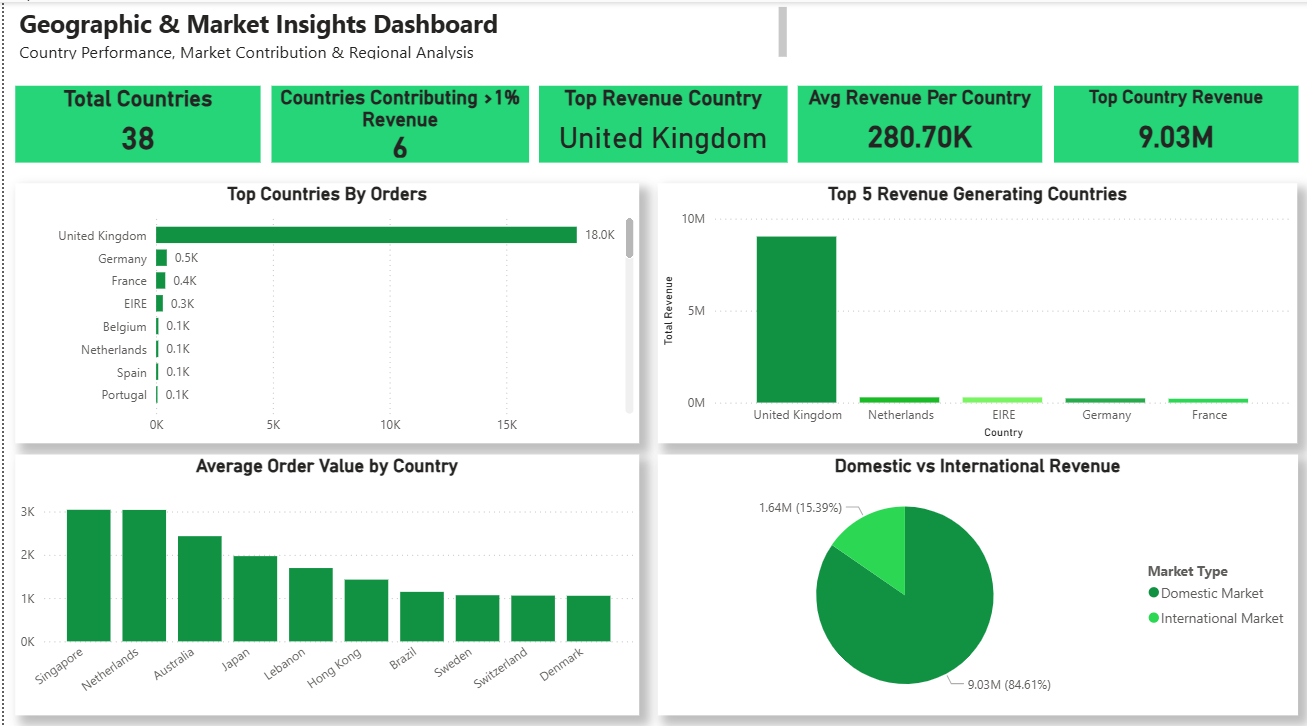

The page's visual inventory and layout, read from the dashboard file:
{"tool":"powerbi","page":{"name":"Page 4","canvas":[1280,720],"ordinal":3},"visuals":[{"type":"textbox","box":[10,0,760.9,61.2],"z":0},{"type":"card","title":"Total Countries","fields":{"Values":["online_retail_clean.Total Countries"]},"box":[11.4,82.5,240.4,75.4],"z":1000},{"type":"card","title":"Top Revenue Country","fields":{"Values":["online_retail_clean.Top Revenue Country"]},"box":[523.4,82.5,243.2,75.4],"z":2000},{"type":"card","title":"Avg Revenue Per Country","fields":{"Values":["online_retail_clean.Avg Revenue per Country"]},"box":[776.5,82.5,238.9,75.4],"z":3000},{"type":"card","title":"Countries Contributing >1% Revenue","fields":{"Values":["online_retail_clean.Countries Contributing >1% Revenue"]},"box":[261.7,82.5,251.7,75.4],"z":4000},{"type":"card","title":"Top Country Revenue","fields":{"Values":["online_retail_clean.Top Country Revenue"]},"box":[1026.8,82.5,238.9,75.4],"z":5000},{"type":"clusteredBarChart","title":"Top Countries By Orders","fields":{"Category":["online_retail_clean.Country"],"Y":["online_retail_clean.Total Orders"]},"box":[11.4,177.8,610.1,254.6],"z":6000},{"type":"clusteredColumnChart","title":"Average Order Value by Country","fields":{"Category":["online_retail_clean.Country"],"Y":["online_retail_clean.Average Order Value"]},"box":[11,443,610,255],"z":7000},{"type":"clusteredColumnChart","title":"Top 5 Revenue Generating Countries","fields":{"Category":["online_retail_clean.Country"],"Y":["online_retail_clean.Total Revenue"]},"box":[640,177.8,625.8,254.6],"z":8000},{"type":"pieChart","title":"Domestic vs International Revenue","fields":{"Category":["online_retail_clean.Market Type"],"Y":["online_retail_clean.Total Revenue"]},"box":[640,443,626,255],"z":9000}]}

Visuals, with their boxes in screenshot pixels (x1, y1, x2, y2), scaled from the page's 1280x720 canvas onto the 1307x726 screenshot:
textbox: box=[10, 0, 787, 62]
"Total Countries" card: box=[12, 83, 257, 159]
"Top Revenue Country" card: box=[534, 83, 783, 159]
"Avg Revenue Per Country" card: box=[793, 83, 1037, 159]
"Countries Contributing >1% Revenue" card: box=[267, 83, 524, 159]
"Top Country Revenue" card: box=[1048, 83, 1292, 159]
"Top Countries By Orders" clusteredBarChart: box=[12, 179, 635, 436]
"Average Order Value by Country" clusteredColumnChart: box=[11, 447, 634, 704]
"Top 5 Revenue Generating Countries" clusteredColumnChart: box=[654, 179, 1293, 436]
"Domestic vs International Revenue" pieChart: box=[654, 447, 1293, 704]
